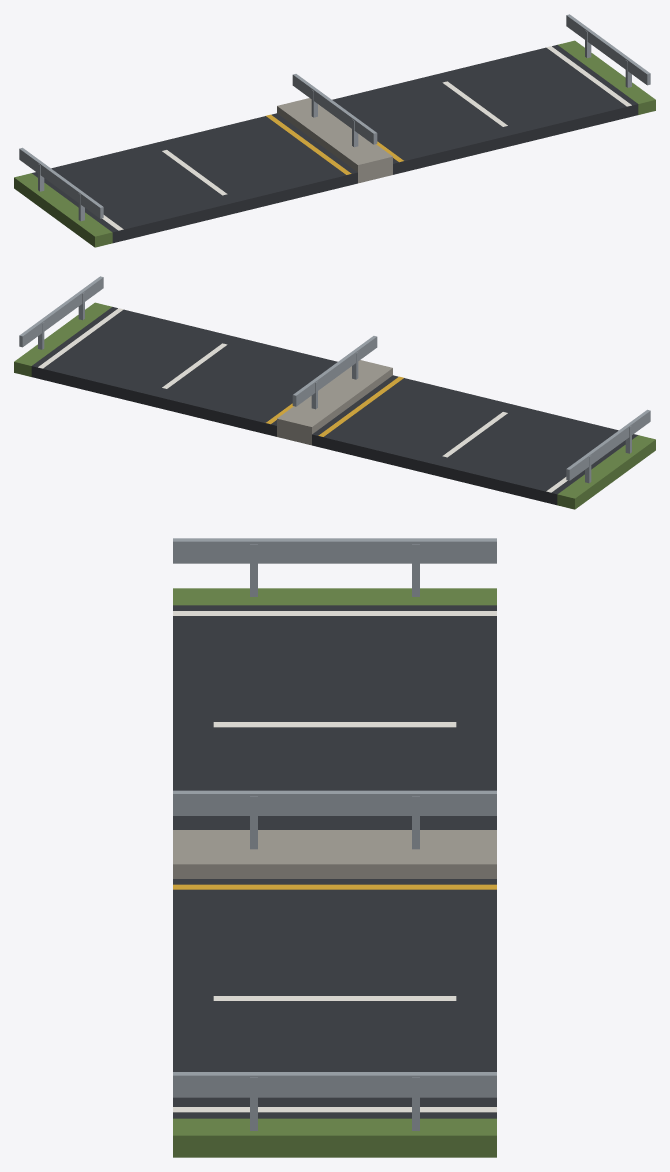
The model's file is Highway_4Lane_Divided_Straight_4m.glb.
The picture shows the model from 3 angles, top to bottom: view 1: azimuth 30°, elevation 25°; view 2: azimuth 150°, elevation 25°; view 3: azimuth 270°, elevation 25°; orthographic projection. The views are drawn at different scales.
Parts seen in each view (by area): view 1: Highway_4Lane_Divided_Straight_4m_Asphalt, Highway_4Lane_Divided_Straight_4m_Metal, Highway_4Lane_Divided_Straight_4m_Grass-edge, Highway_4Lane_Divided_Straight_4m_Concrete, Highway_4Lane_Divided_Straight_4m_PaintWhite, Highway_4Lane_Divided_Straight_4m_PaintYellow; view 2: Highway_4Lane_Divided_Straight_4m_Asphalt, Highway_4Lane_Divided_Straight_4m_Metal, Highway_4Lane_Divided_Straight_4m_Grass-edge, Highway_4Lane_Divided_Straight_4m_Concrete, Highway_4Lane_Divided_Straight_4m_PaintWhite, Highway_4Lane_Divided_Straight_4m_PaintYellow; view 3: Highway_4Lane_Divided_Straight_4m_Asphalt, Highway_4Lane_Divided_Straight_4m_Metal, Highway_4Lane_Divided_Straight_4m_Grass-edge, Highway_4Lane_Divided_Straight_4m_Concrete, Highway_4Lane_Divided_Straight_4m_PaintWhite, Highway_4Lane_Divided_Straight_4m_PaintYellow.
Part boxes in pixels (x1=…): Highway_4Lane_Divided_Straight_4m_Asphalt: x1=32, y1=45, x2=638, y2=243; Highway_4Lane_Divided_Straight_4m_Metal: x1=19, y1=14, x2=650, y2=221; Highway_4Lane_Divided_Straight_4m_Grass-edge: x1=14, y1=40, x2=655, y2=247; Highway_4Lane_Divided_Straight_4m_Concrete: x1=277, y1=98, x2=392, y2=183; Highway_4Lane_Divided_Straight_4m_PaintWhite: x1=102, y1=46, x2=631, y2=230; Highway_4Lane_Divided_Straight_4m_PaintYellow: x1=266, y1=114, x2=403, y2=174; Highway_4Lane_Divided_Straight_4m_Asphalt: x1=31, y1=307, x2=637, y2=505; Highway_4Lane_Divided_Straight_4m_Metal: x1=19, y1=276, x2=650, y2=483; Highway_4Lane_Divided_Straight_4m_Grass-edge: x1=14, y1=302, x2=655, y2=509; Highway_4Lane_Divided_Straight_4m_Concrete: x1=277, y1=360, x2=392, y2=445; Highway_4Lane_Divided_Straight_4m_PaintWhite: x1=38, y1=308, x2=567, y2=492; Highway_4Lane_Divided_Straight_4m_PaintYellow: x1=266, y1=376, x2=403, y2=436; Highway_4Lane_Divided_Straight_4m_Asphalt: x1=173, y1=605, x2=496, y2=1118; Highway_4Lane_Divided_Straight_4m_Metal: x1=173, y1=538, x2=496, y2=1130; Highway_4Lane_Divided_Straight_4m_Grass-edge: x1=173, y1=588, x2=496, y2=1157; Highway_4Lane_Divided_Straight_4m_Concrete: x1=173, y1=830, x2=496, y2=878; Highway_4Lane_Divided_Straight_4m_PaintWhite: x1=173, y1=611, x2=496, y2=1112; Highway_4Lane_Divided_Straight_4m_PaintYellow: x1=173, y1=884, x2=496, y2=889.
Bounding box in the file's own units: 16 × 1.25 × 4.
